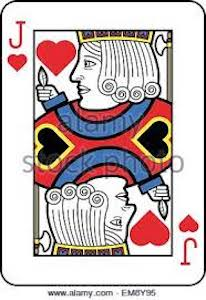JackOfHearts: (1, 1, 206, 290)
